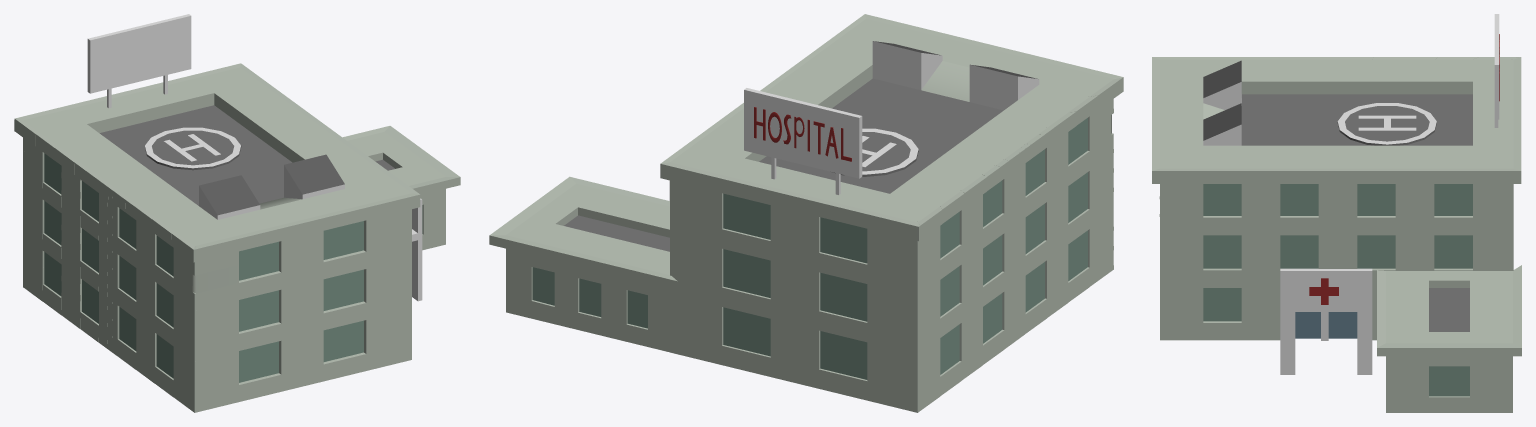
Rendered from HospitalModel_FBX.fbx.
3 renders of one model, left to right at view 1: azimuth 30°, elevation 25°; view 2: azimuth 150°, elevation 25°; view 3: azimuth 270°, elevation 25°, orthographic. The views are drawn at different scales.
Parts seen in each view (by area): view 1: Hospital; view 2: Hospital; view 3: Hospital.
Part boxes in pixels (box(x1,y1,x2,y2)): Hospital: box(14, 14, 460, 412); Hospital: box(489, 14, 1123, 412); Hospital: box(1152, 14, 1521, 412).
Bounding box in the file's own units: 13.27 × 8.08 × 10.98.
